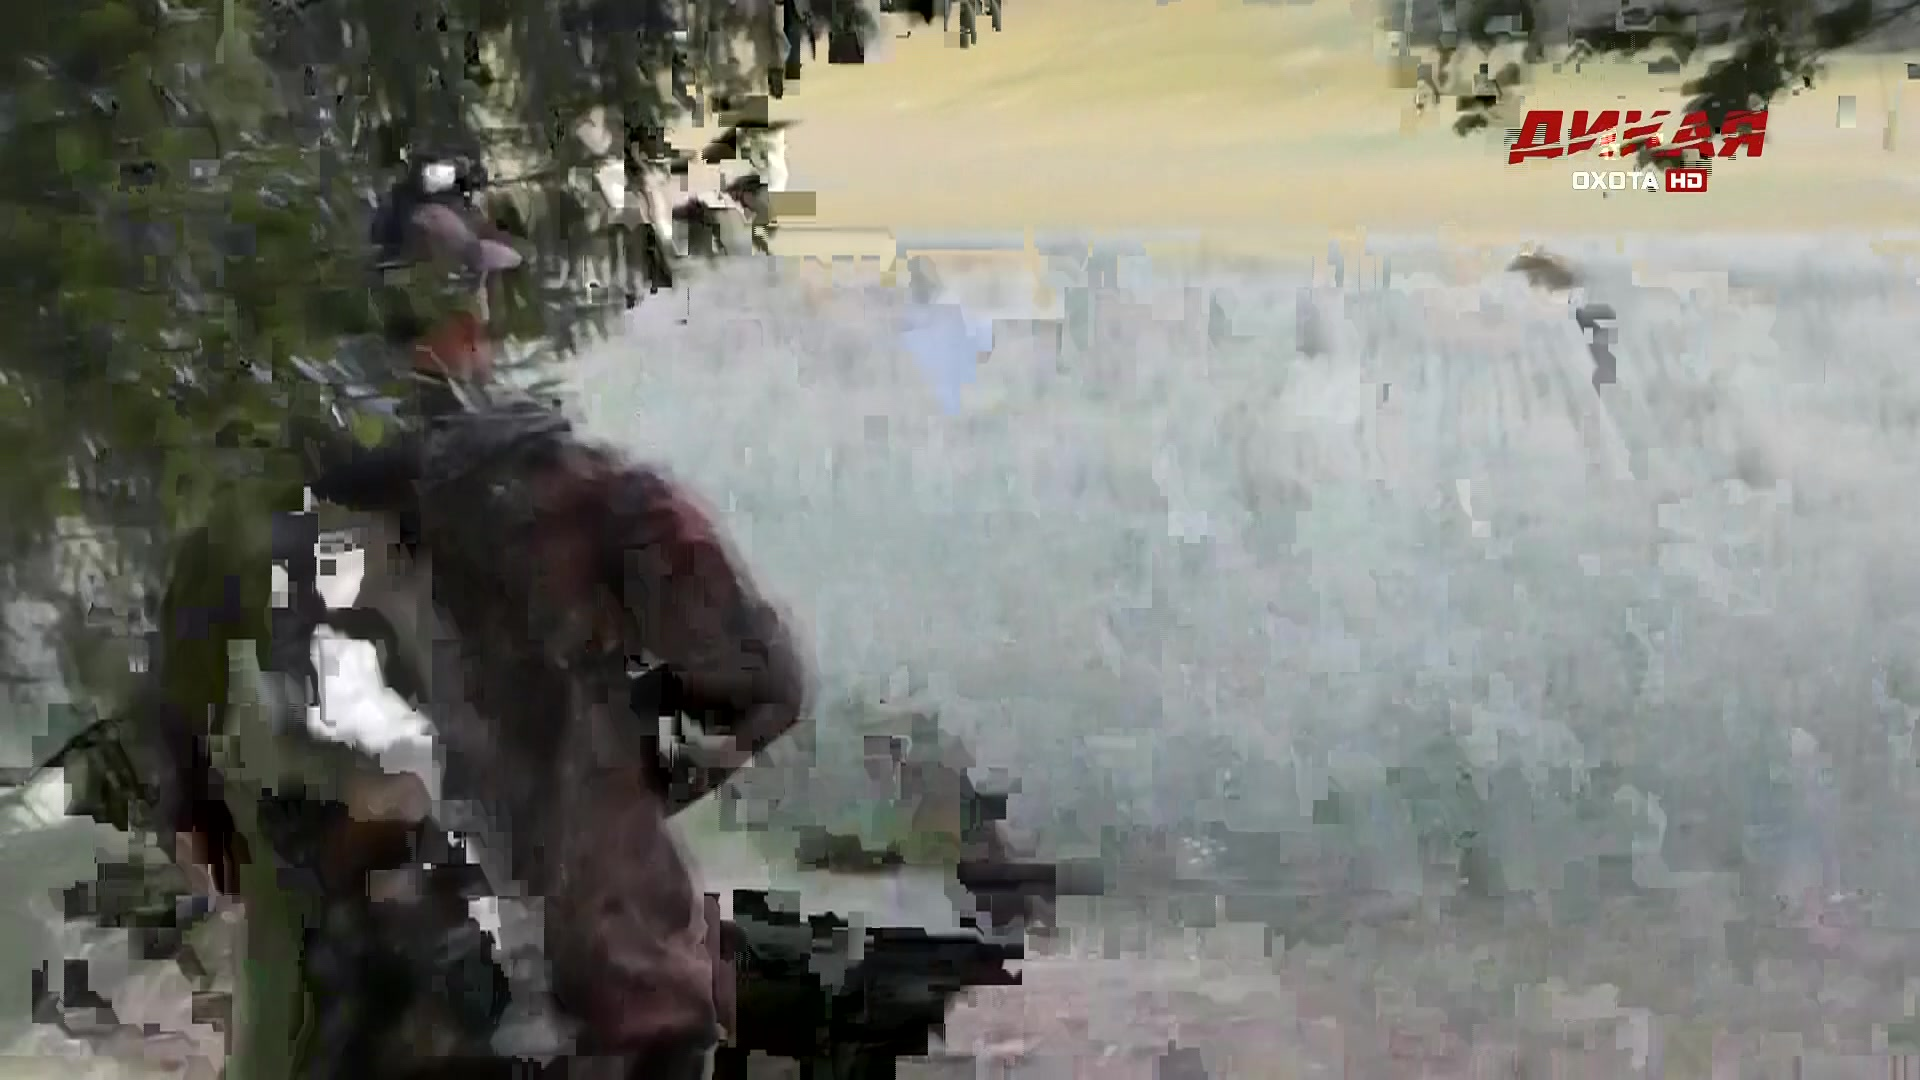Dikaya_Ohota_HD: (1506, 104, 1774, 200)
